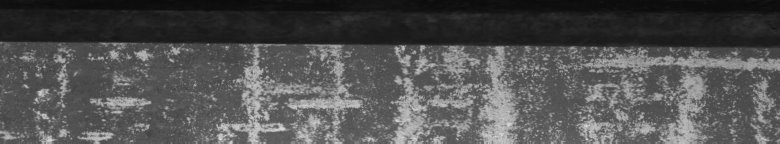kb: (4, 36, 776, 136)
